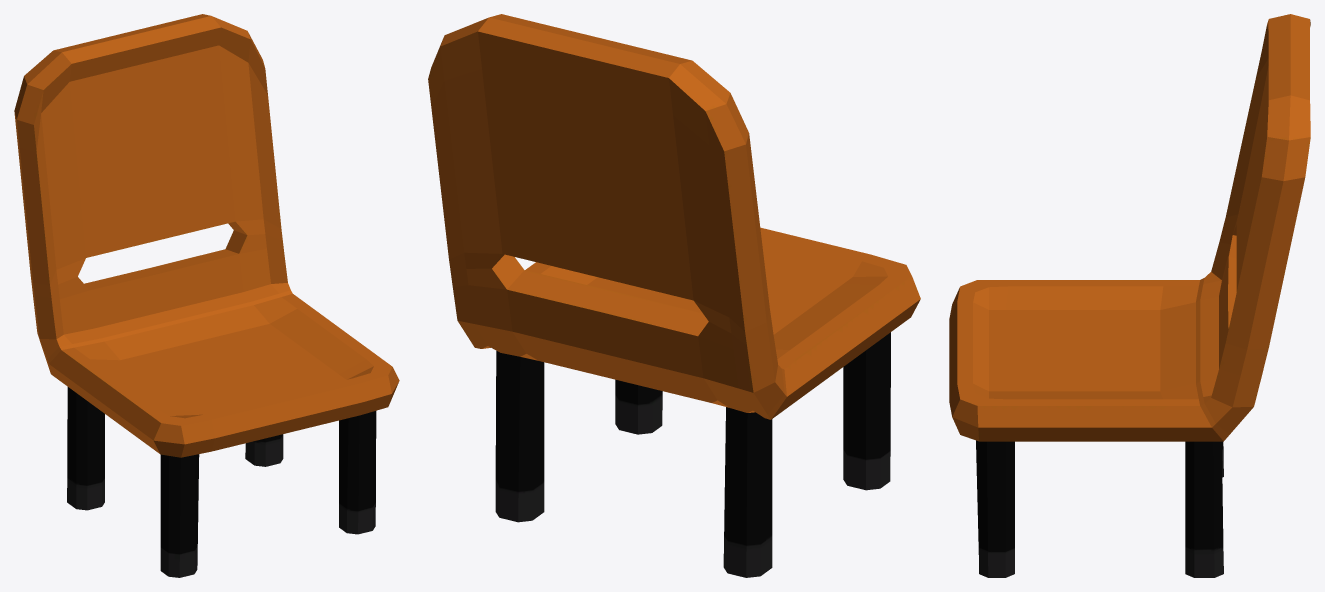
Rendered from ChairBrown.fbx.
The picture shows the model from 3 angles, left to right: view 1: azimuth 30°, elevation 25°; view 2: azimuth 150°, elevation 25°; view 3: azimuth 270°, elevation 25°; orthographic projection. The views are drawn at different scales.
Parts seen in each view (by area): view 1: Cube; view 2: Cube; view 3: Cube.
Boxes of the visible parts, x1,y1,x2,y2 form: Cube: [14, 14, 399, 577]; Cube: [428, 14, 920, 577]; Cube: [949, 14, 1310, 577].
Bounding box in the file's own units: 1402 × 2278 × 1599.
